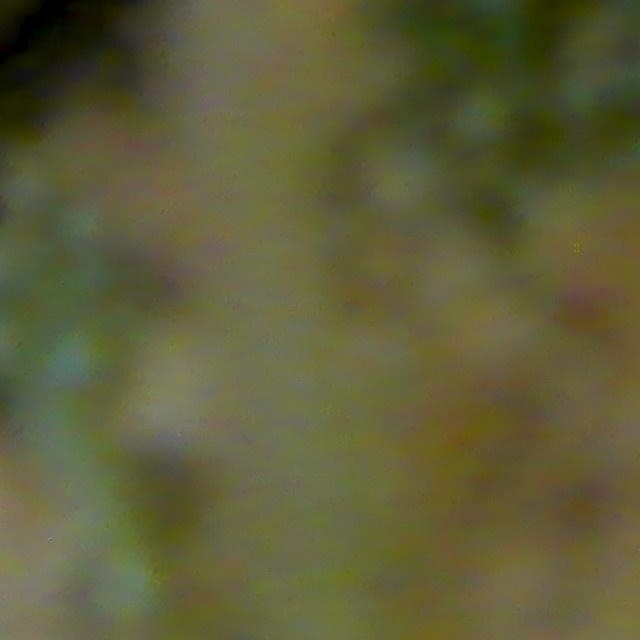SeaGrape: (91, 538, 176, 628), (31, 323, 109, 398), (445, 80, 520, 153)
